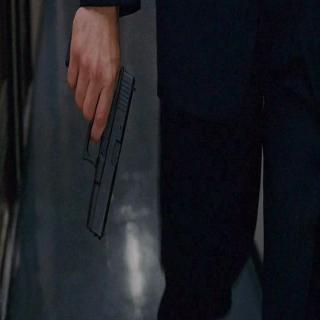gun: (61, 33, 138, 250)
